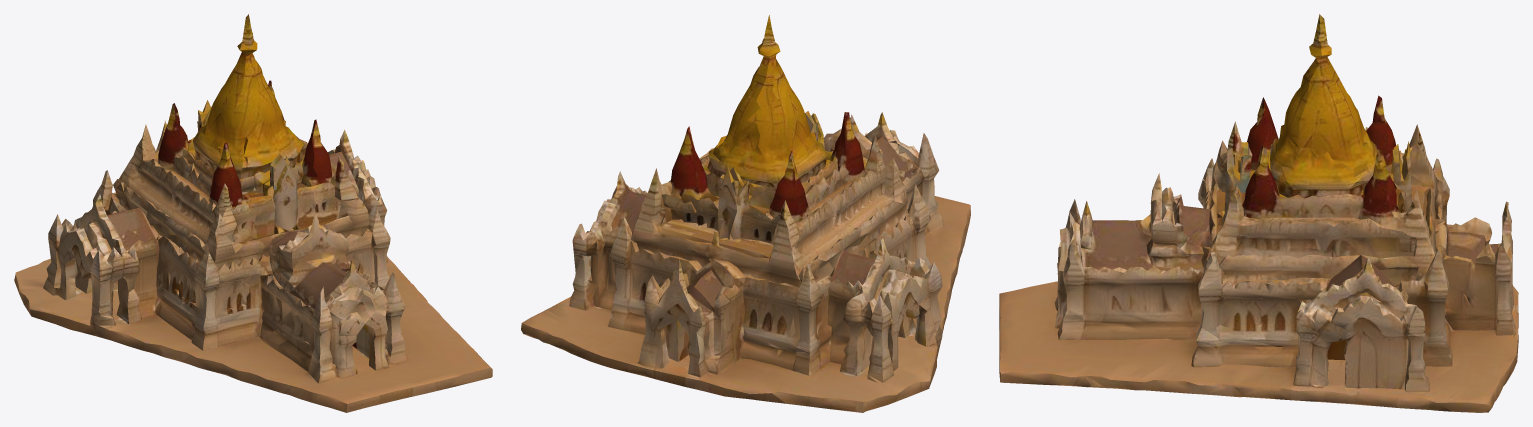
The model's file is ananda-temple.glb.
3 renders of one model, left to right at view 1: azimuth 30°, elevation 25°; view 2: azimuth 150°, elevation 25°; view 3: azimuth 270°, elevation 25°, orthographic. The views are drawn at different scales.
Visible parts, largest first — view 1: logan-textured.obj; view 2: logan-textured.obj; view 3: logan-textured.obj.
Boxes of the visible parts, x1=… form: logan-textured.obj: x1=14, y1=14, x2=492, y2=412; logan-textured.obj: x1=521, y1=15, x2=970, y2=412; logan-textured.obj: x1=999, y1=14, x2=1518, y2=412.
Bounding box in the file's own units: 0.8481 × 0.6693 × 1.
1 material, 1 textured.
